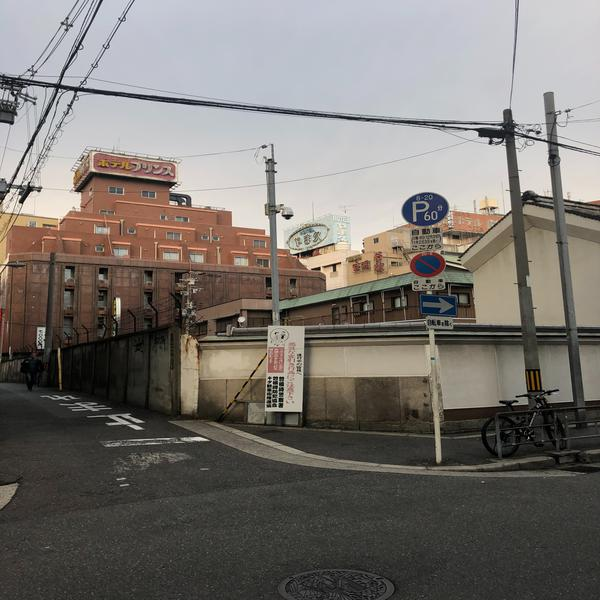utility_pole: (245, 139, 298, 235), (528, 88, 589, 168), (474, 100, 537, 177)
